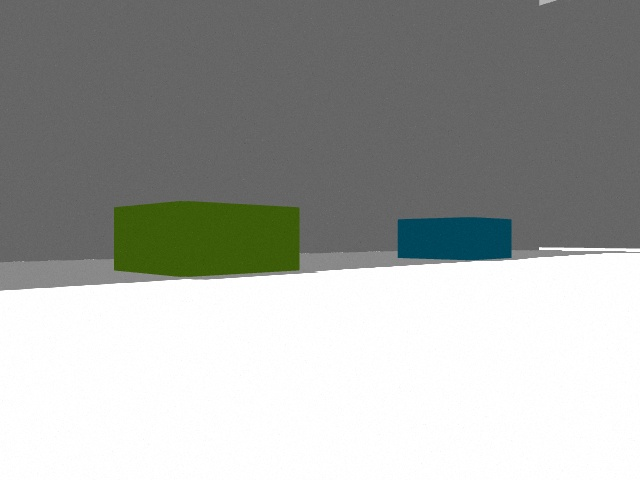blue_drop_zone: (398, 217, 512, 260)
green_drop_zone: (114, 201, 300, 277)
